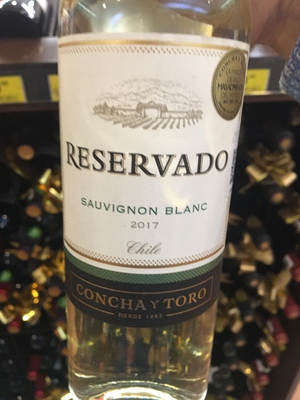reservado sauvignon blanc: (59, 3, 249, 400)
